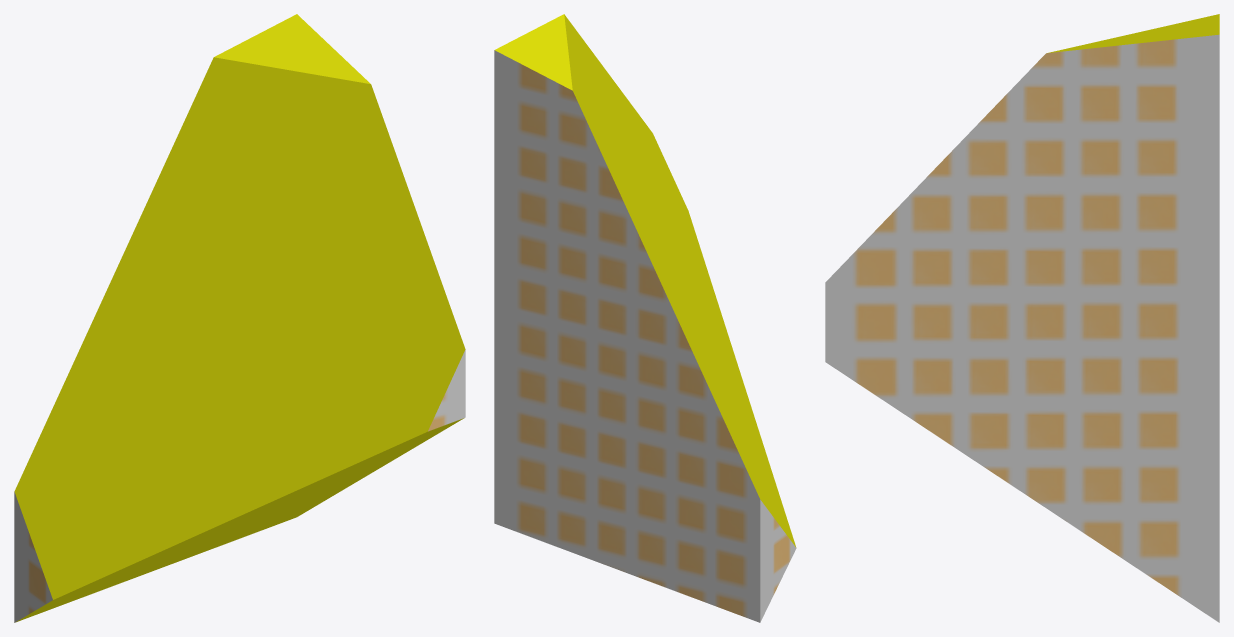
File: st1Shard4.fbx
3 renders of one model, left to right at view 1: azimuth 30°, elevation 25°; view 2: azimuth 150°, elevation 25°; view 3: azimuth 270°, elevation 25°, orthographic. The views are drawn at different scales.
Visible parts, largest first — view 1: shard49; view 2: shard49; view 3: shard49.
Part boxes in pixels (x1,y1,x2,y2): shard49: (14,14,465,622); shard49: (494,14,796,622); shard49: (825,14,1219,622).
Size of the model in its own units: 0.0992 by 0.1812 by 0.1025.
Materials: 2 (1 with a texture image).
